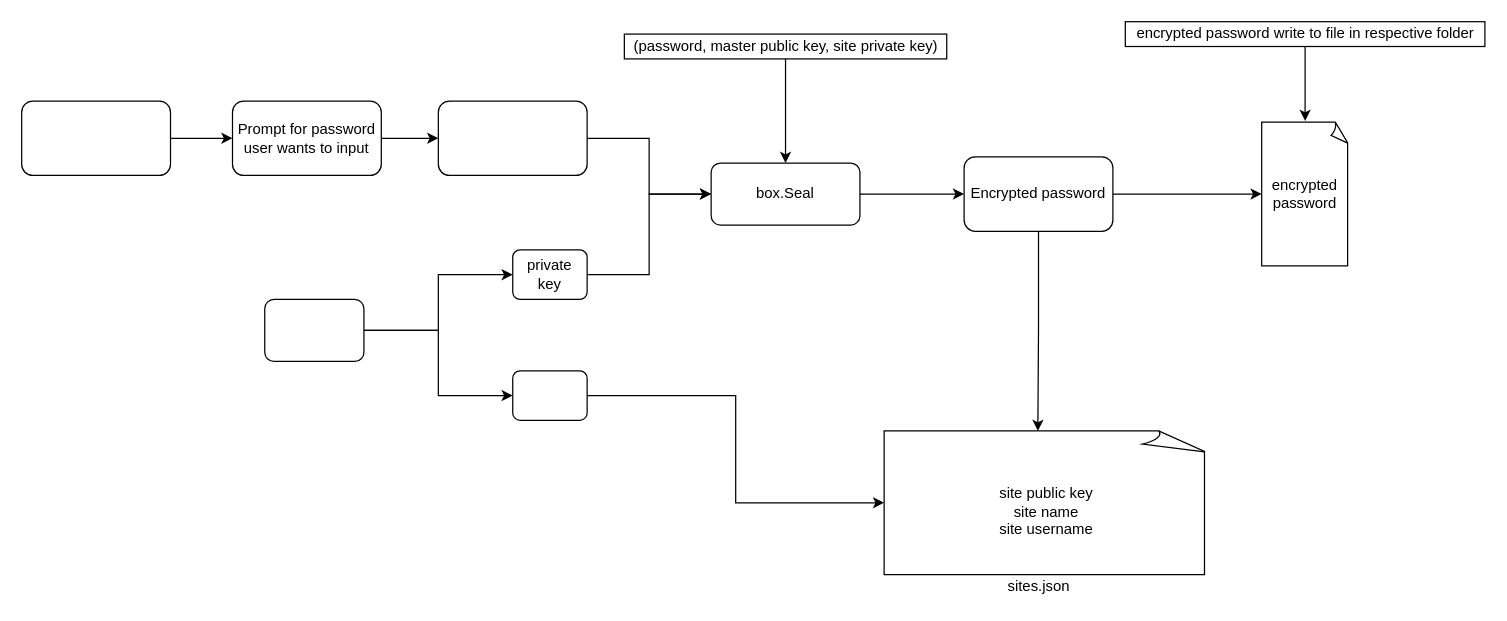
Some shapes in this 1507 by 621 pixel diagram are drawn without their labels. Here are the shapes that lost their labels. From the top down, the centre of each, then its label:
At point 95,137: "Add".
At point 512,137: "Get master public key from masterpass file".
At point 314,329: "box.Generate".
At point 549,395: "public key".
